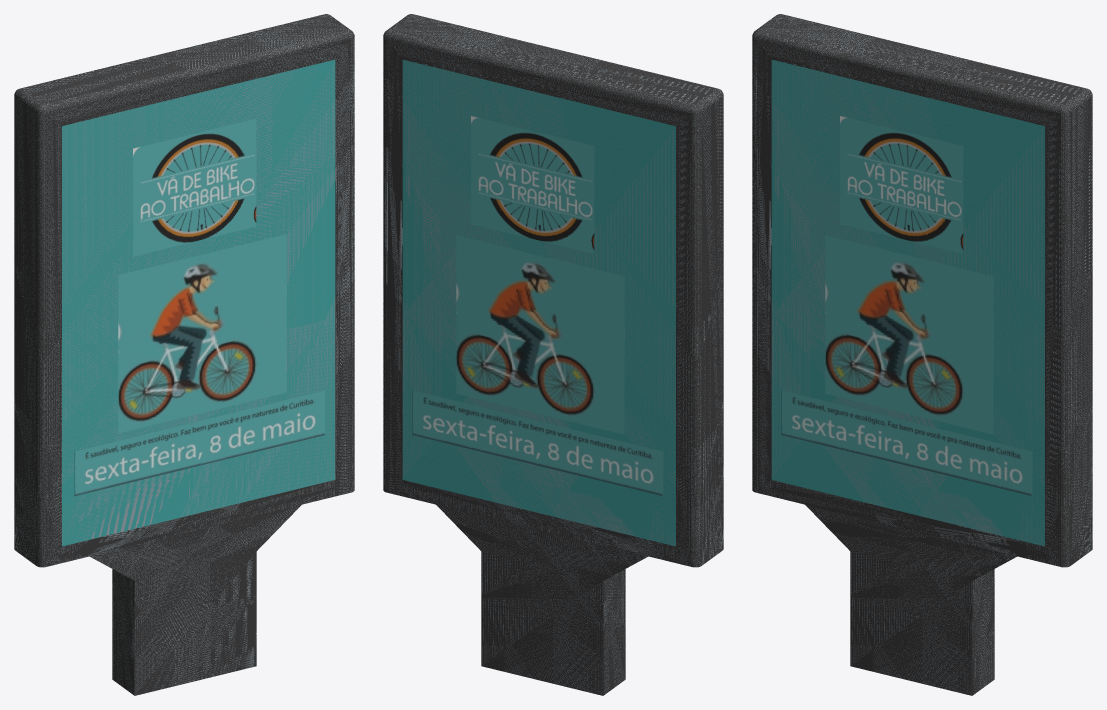
The model's file is totem.fbx.
3 renders of one model, left to right at view 1: azimuth 30°, elevation 25°; view 2: azimuth 150°, elevation 25°; view 3: azimuth 330°, elevation 25°, orthographic.
Parts seen in each view (by area): view 1: Model, Group1, Group2; view 2: Model, Group3, Group4; view 3: Model, Group1, Group2.
Boxes of the visible parts, x1,y1,x2,y2 form: Model: (14, 14, 354, 695); Group1: (62, 59, 335, 546); Group2: (74, 118, 325, 495); Model: (383, 14, 723, 695); Group3: (402, 59, 675, 546); Group4: (412, 116, 663, 495); Model: (752, 14, 1092, 695); Group1: (771, 59, 1044, 546); Group2: (781, 116, 1032, 495).
Size of the model in its own units: 1.3 by 2.4 by 0.22.
